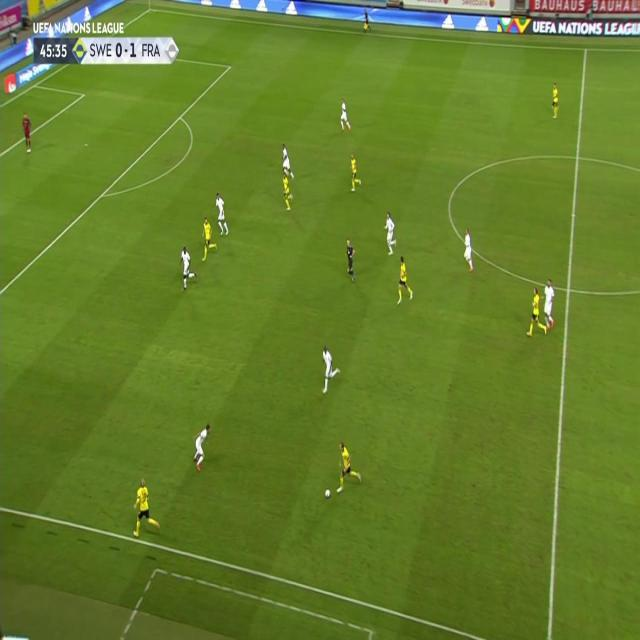ball: (325, 488, 331, 499)
player: (132, 477, 160, 542), (333, 438, 362, 494), (318, 345, 342, 394), (524, 288, 548, 336), (192, 423, 212, 474), (396, 256, 414, 307), (179, 246, 198, 292), (199, 216, 217, 262), (343, 239, 358, 285), (214, 193, 230, 236), (462, 228, 477, 271), (383, 211, 396, 257), (348, 154, 362, 194), (21, 112, 33, 156), (544, 278, 554, 330), (281, 174, 294, 212), (339, 98, 353, 133), (280, 142, 294, 177), (550, 82, 560, 121)
